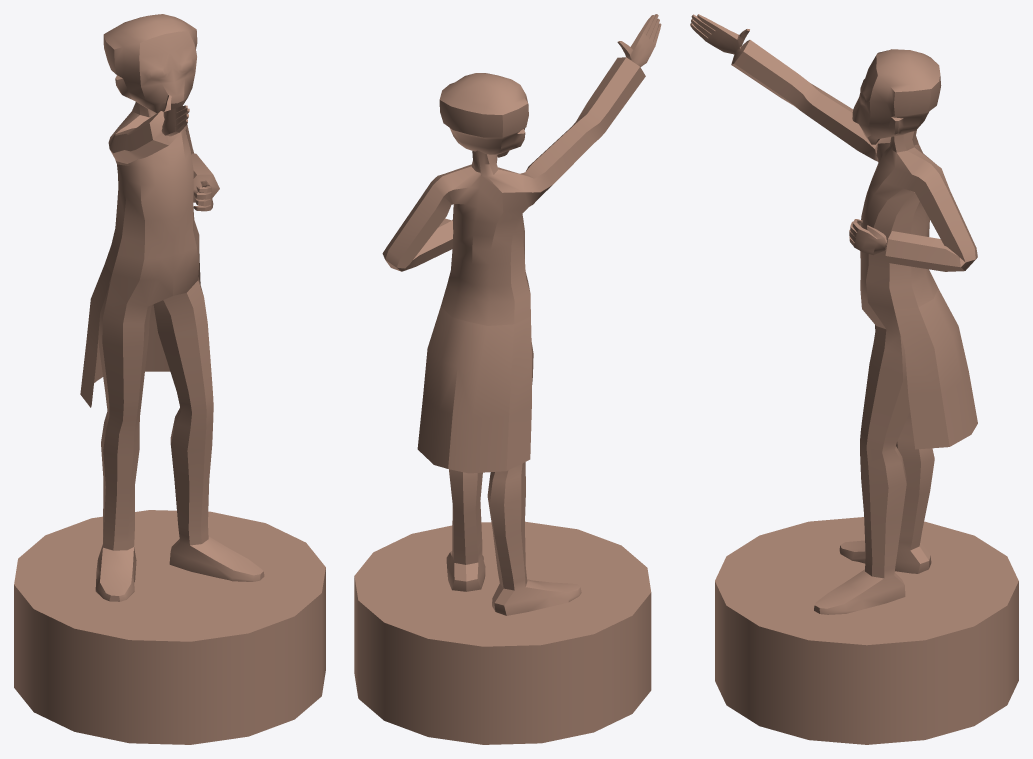
The model's file is Statue.fbx.
The picture shows the model from 3 angles, left to right: view 1: azimuth 30°, elevation 25°; view 2: azimuth 150°, elevation 25°; view 3: azimuth 270°, elevation 25°; orthographic projection. The views are drawn at different scales.
Parts seen in each view (by area): view 1: Pedestal, Statue; view 2: Statue, Pedestal; view 3: Pedestal, Statue.
Boxes of the visible parts, x1,y1,x2,y2 form: Pedestal: [14, 510, 325, 744]; Statue: [80, 14, 264, 601]; Statue: [382, 14, 661, 615]; Pedestal: [354, 521, 651, 744]; Pedestal: [715, 517, 1018, 744]; Statue: [690, 14, 977, 614].
Bounding box in the file's own units: 84.68 × 195 × 91.57.
